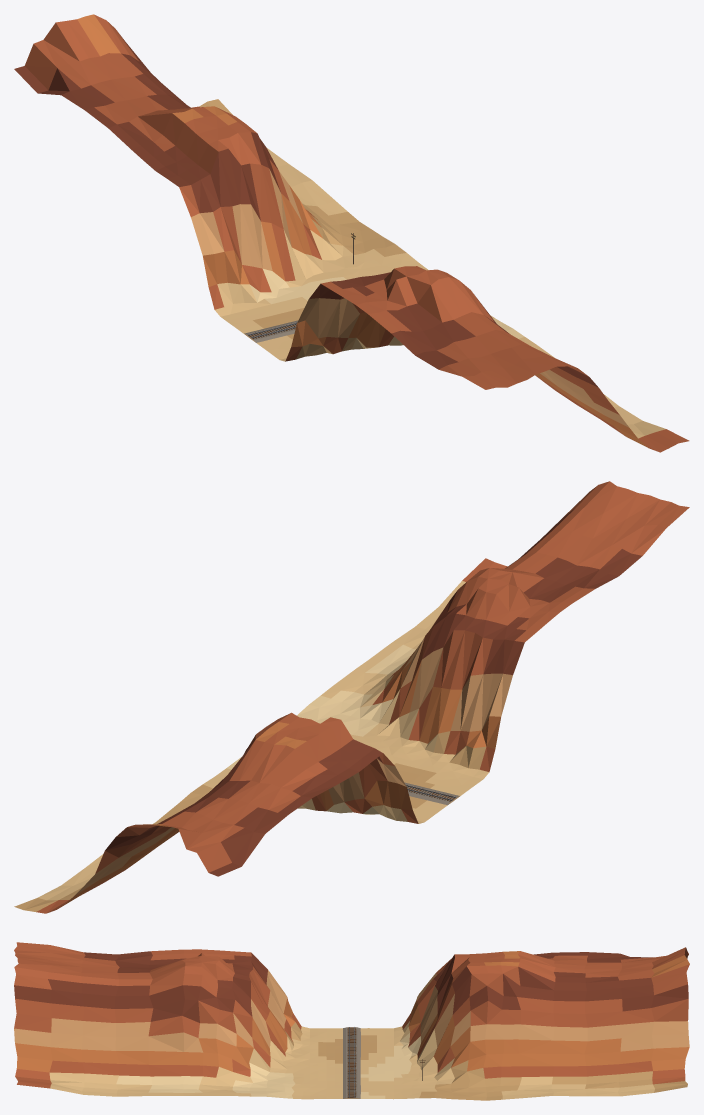
Rendered from SM_FG_Chunk_CanyonDeep_Exit_A.fbx.
3 renders of one model, top to bottom at view 1: azimuth 30°, elevation 25°; view 2: azimuth 150°, elevation 25°; view 3: azimuth 270°, elevation 25°, orthographic. The views are drawn at different scales.
Visible parts, largest first — view 1: FG_Chunk_CanyonDeep_Exit_A_Ground; view 2: FG_Chunk_CanyonDeep_Exit_A_Ground; view 3: FG_Chunk_CanyonDeep_Exit_A_Ground, FG_Chunk_CanyonDeep_Exit_A_Track.
Boxes of the visible parts, x1,y1,x2,y2 form: FG_Chunk_CanyonDeep_Exit_A_Ground: (14, 14, 689, 452); FG_Chunk_CanyonDeep_Exit_A_Ground: (14, 481, 689, 913); FG_Chunk_CanyonDeep_Exit_A_Ground: (14, 942, 689, 1100); FG_Chunk_CanyonDeep_Exit_A_Track: (343, 1027, 360, 1098).
Size of the model in its own units: 5000 by 20156 by 3190.
